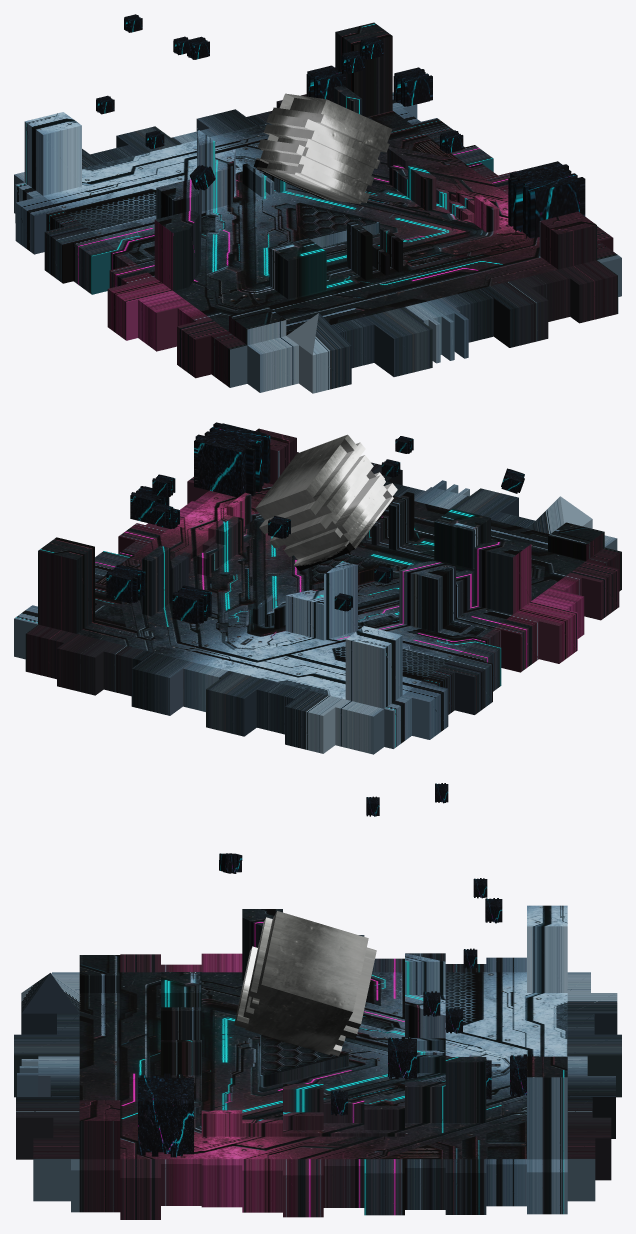
Rendered from the_core_cognition.glb.
3 renders of one model, top to bottom at view 1: azimuth 30°, elevation 25°; view 2: azimuth 150°, elevation 25°; view 3: azimuth 270°, elevation 25°, orthographic. The views are drawn at different scales.
Visible parts, largest first — view 1: Platform, Core.009, Grunt.002, Platform.001, Grunt, Grunt.008; view 2: Platform, Core.009, Platform.001, Grunt.002, Grunt.007, Grunt.008, Grunt, Grunt.016, Grunt.017; view 3: Platform, Core.009, Grunt.002, Platform.001, Grunt, Grunt.008.
Part boxes in pixels (x1,y1,x2,y2): Platform: (14, 85, 621, 393); Core.009: (253, 93, 392, 204); Grunt.002: (508, 161, 585, 238); Platform.001: (335, 22, 392, 116); Grunt: (393, 67, 432, 106); Grunt.008: (306, 65, 345, 101); Platform: (14, 428, 621, 754); Core.009: (255, 434, 397, 571); Platform.001: (38, 537, 94, 633); Grunt.002: (194, 422, 270, 497); Grunt.007: (172, 585, 211, 624); Grunt.008: (106, 564, 145, 603); Grunt: (130, 486, 169, 524); Grunt.016: (152, 474, 175, 497); Grunt.017: (150, 503, 173, 526); Platform: (14, 905, 621, 1219); Core.009: (234, 911, 376, 1056); Grunt.002: (138, 1073, 193, 1157); Platform.001: (527, 1056, 567, 1159); Grunt: (388, 1037, 416, 1079); Grunt.008: (510, 1054, 538, 1096).
Bounding box in the file's own units: 3.25 × 2.26 × 3.62.
3 materials, 3 textured.
